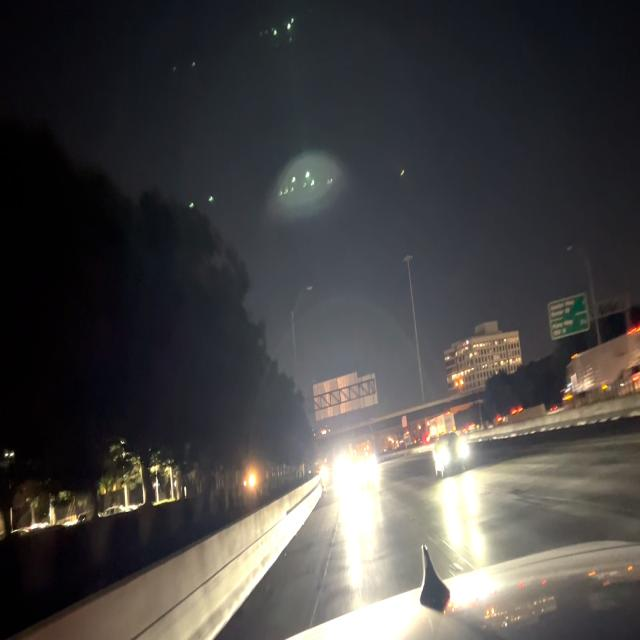back-of-sign: (313, 372, 379, 417)
